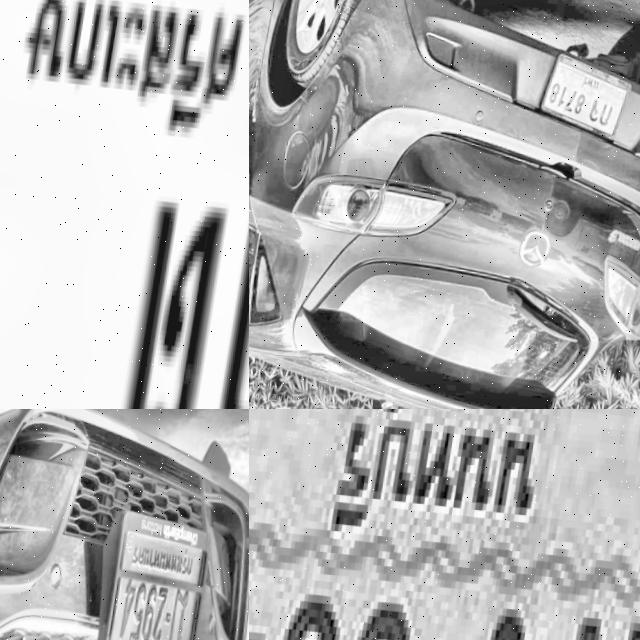license-plate: (0, 0, 249, 409), (249, 409, 640, 640), (84, 493, 232, 640), (537, 44, 640, 139)
